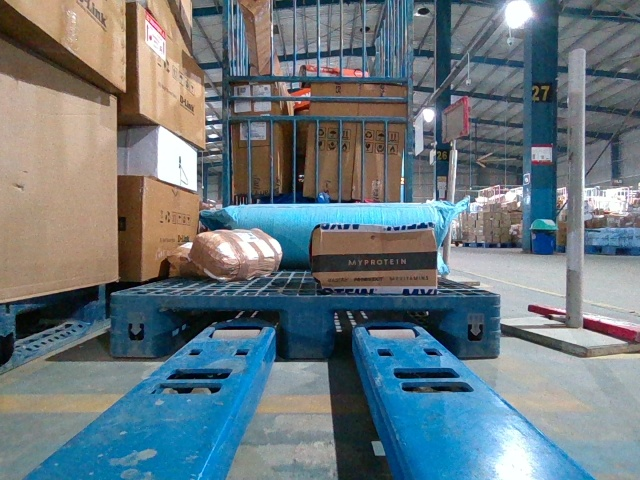block: (277, 290, 329, 361), (110, 291, 163, 360), (451, 293, 504, 357)
front: (109, 293, 499, 356)
hole pallet: (151, 308, 286, 361), (327, 304, 457, 358)
